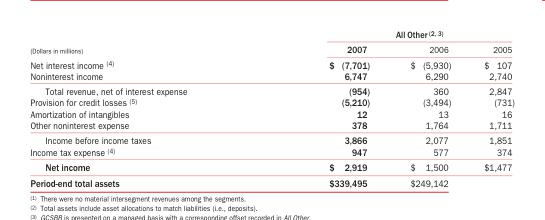table: (29, 28, 513, 188)
table column: (29, 28, 257, 188), (257, 28, 389, 188), (389, 28, 466, 188), (466, 28, 513, 188)
table column header: (29, 28, 513, 56)
table row: (29, 158, 513, 174), (29, 41, 513, 56), (29, 56, 513, 70), (29, 174, 513, 188), (29, 28, 513, 41), (29, 70, 513, 83), (29, 83, 513, 96), (29, 119, 513, 132), (29, 132, 513, 145), (29, 145, 513, 158), (29, 107, 513, 119), (29, 96, 513, 107)
table spanning cell: (29, 28, 257, 56), (257, 28, 513, 41)
